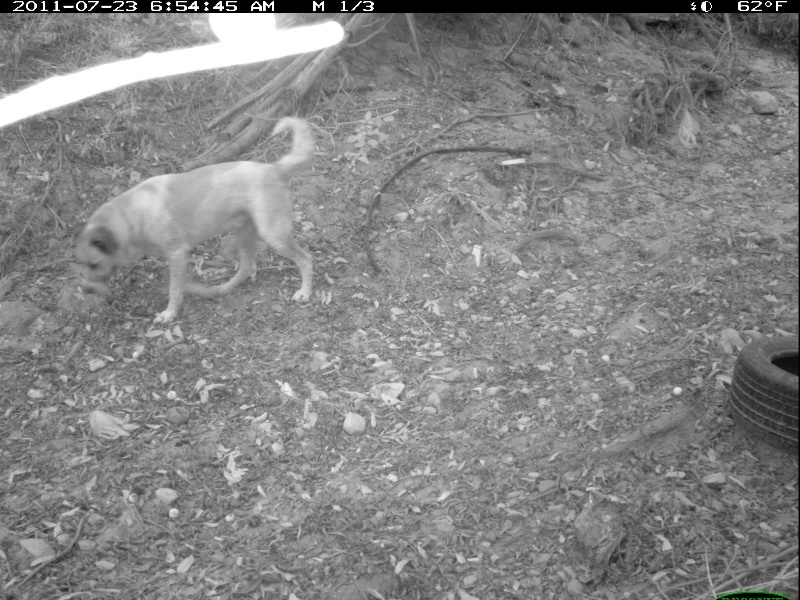dog: (68, 112, 327, 333)
